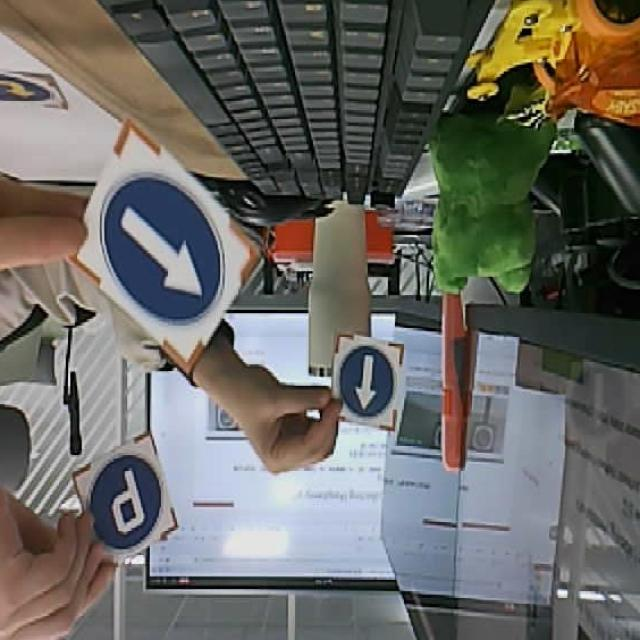parking: (73, 436, 177, 566)
straight: (62, 118, 264, 378), (330, 328, 408, 432)
